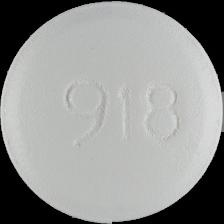42291-276: (0, 0, 224, 224)
